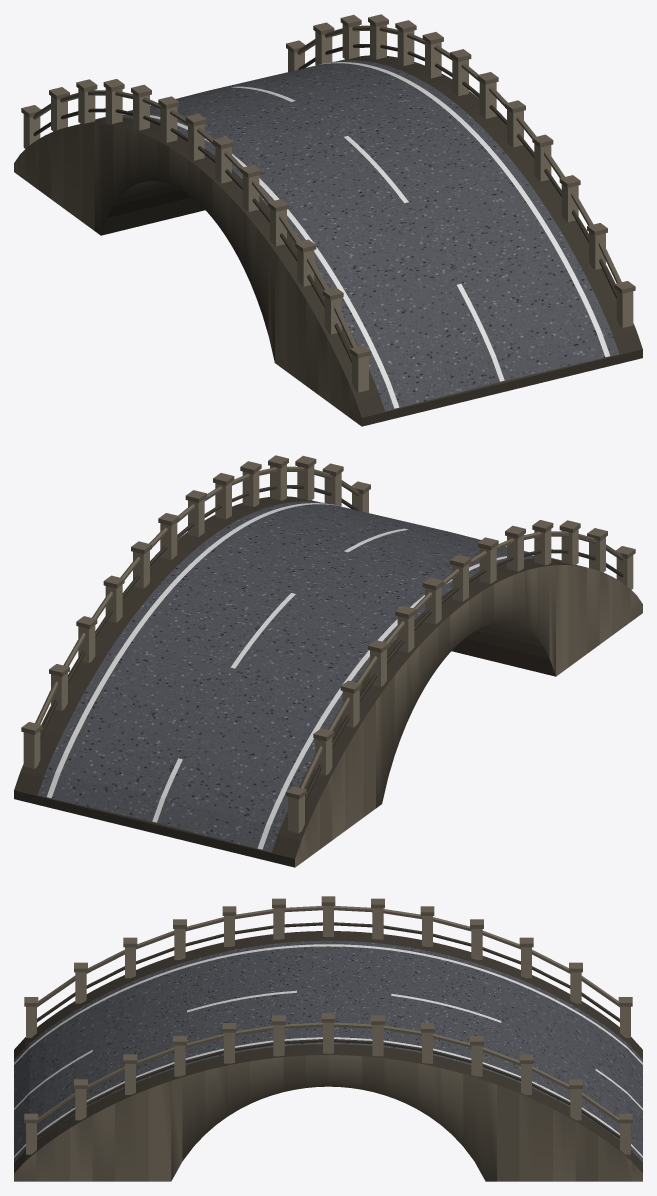
File: ENV_StoneBridge.fbx
The picture shows the model from 3 angles, top to bottom: view 1: azimuth 30°, elevation 25°; view 2: azimuth 150°, elevation 25°; view 3: azimuth 270°, elevation 25°; orthographic projection. The views are drawn at different scales.
Parts seen in each view (by area): view 1: ENV_StoneBridge_Road, ENV_StoneBridge_Mesh, ENV_StoneBridge_Road_Edges; view 2: ENV_StoneBridge_Road, ENV_StoneBridge_Mesh, ENV_StoneBridge_Road_Edges; view 3: ENV_StoneBridge_Mesh, ENV_StoneBridge_Road, ENV_StoneBridge_Road_Edges.
Part boxes in pixels (bbox=[...]): ENV_StoneBridge_Road: bbox=[95, 60, 619, 411]; ENV_StoneBridge_Mesh: bbox=[14, 14, 642, 426]; ENV_StoneBridge_Road_Edges: bbox=[96, 62, 609, 408]; ENV_StoneBridge_Road: bbox=[37, 501, 561, 852]; ENV_StoneBridge_Mesh: bbox=[14, 455, 642, 867]; ENV_StoneBridge_Road_Edges: bbox=[47, 503, 560, 849]; ENV_StoneBridge_Mesh: bbox=[14, 896, 642, 1181]; ENV_StoneBridge_Road: bbox=[14, 940, 642, 1162]; ENV_StoneBridge_Road_Edges: bbox=[14, 944, 642, 1157].
Size of the model in its own units: 8.4 by 5.12 by 18.
2 materials, 1 textured.
